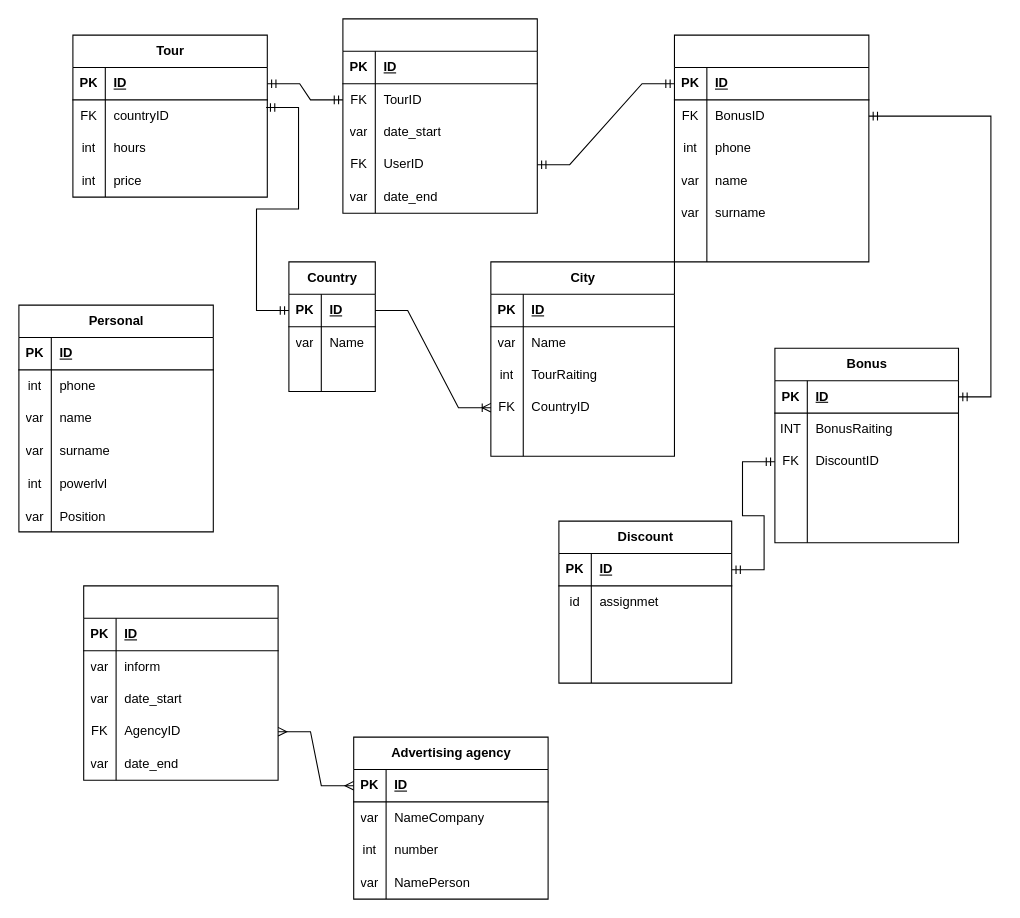
The diagram is 1020 pixels wide and 918 high, and some of its shapes have lost their labels. Here are the shapes that lost their labels. From the top down, the box of each, then its label:
(342, 18, 537, 213): Ticket
(673, 34, 869, 262): User
(83, 585, 278, 780): Advertisement
